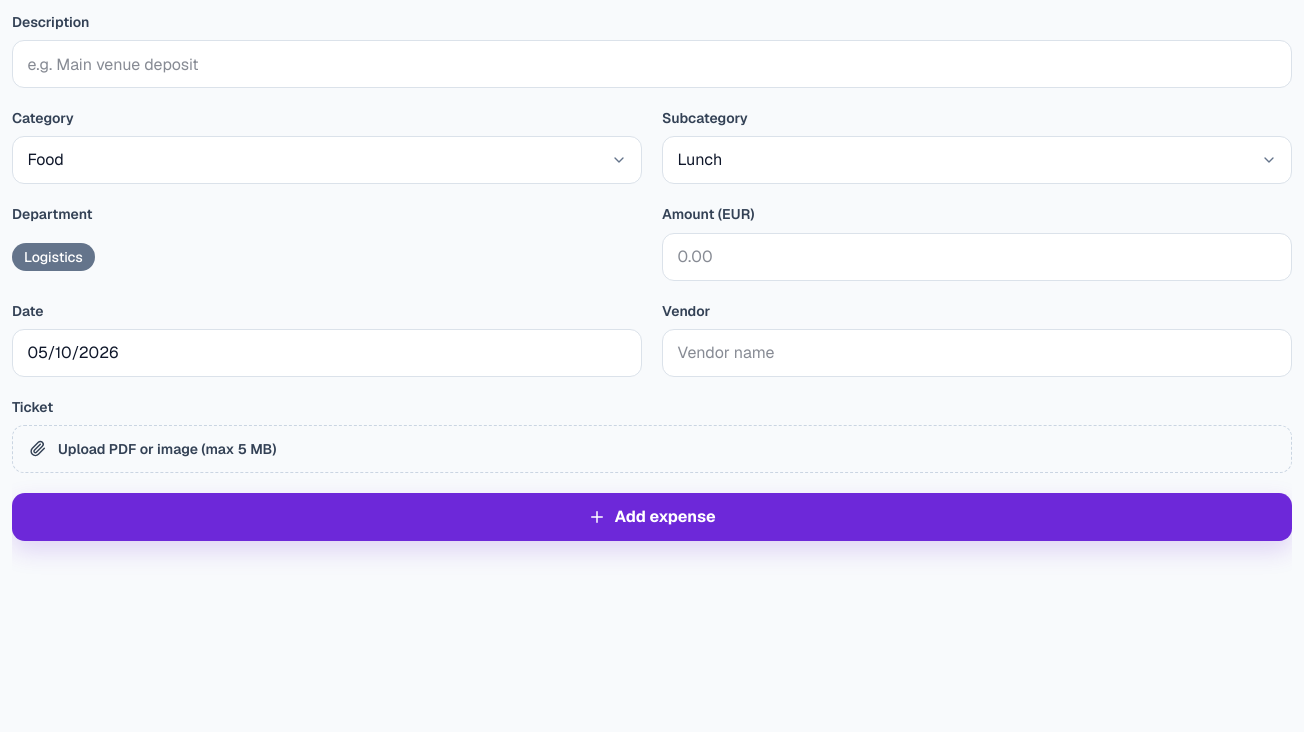
ExpenseForm › shows an error message returned from the action
Type "Venue deposit" into the field labelled "Description".
click(652, 64); type("Venue deposit")  # box x1=12 y1=40 x2=1292 y2=88
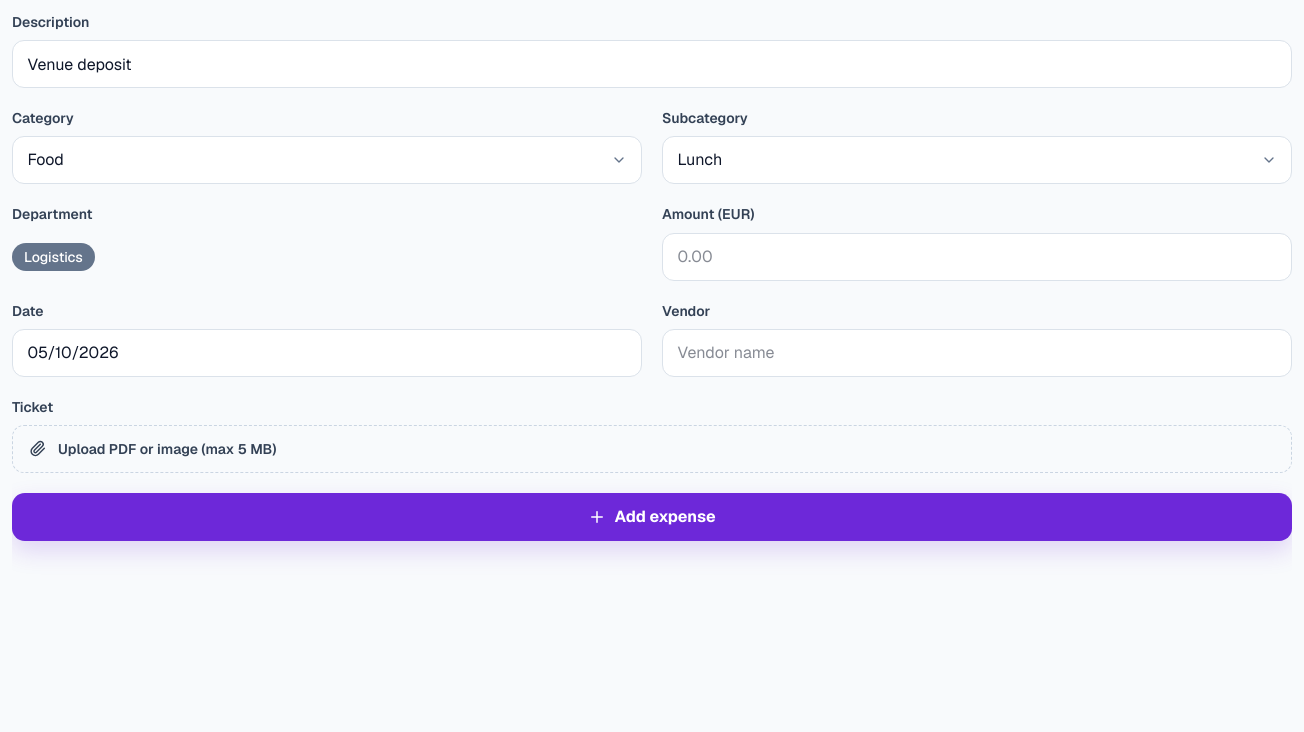
Type "500" into the number field labelled "Amount (EUR)".
click(977, 257); type("500")  # box x1=662 y1=233 x2=1292 y2=281
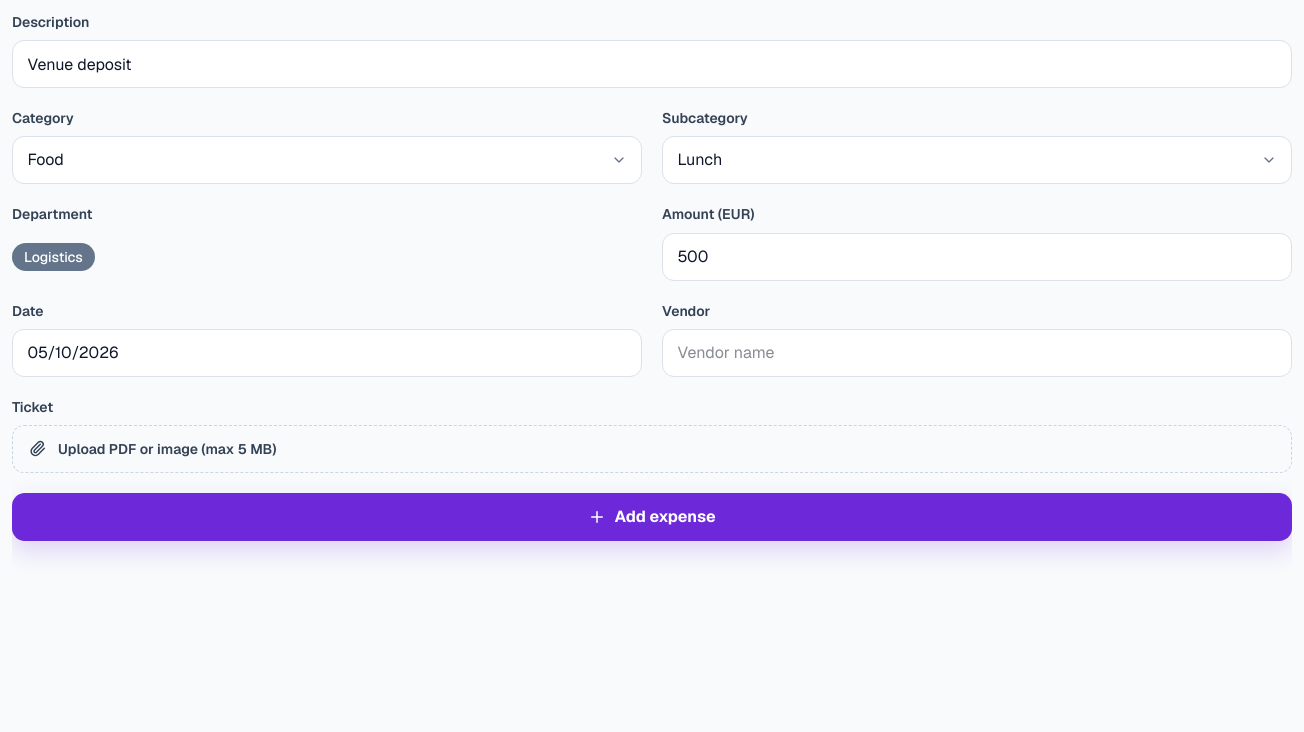
Type "Acme Venues" into the field labelled "Vendor".
click(977, 353); type("Acme Venues")  # box x1=662 y1=329 x2=1292 y2=377
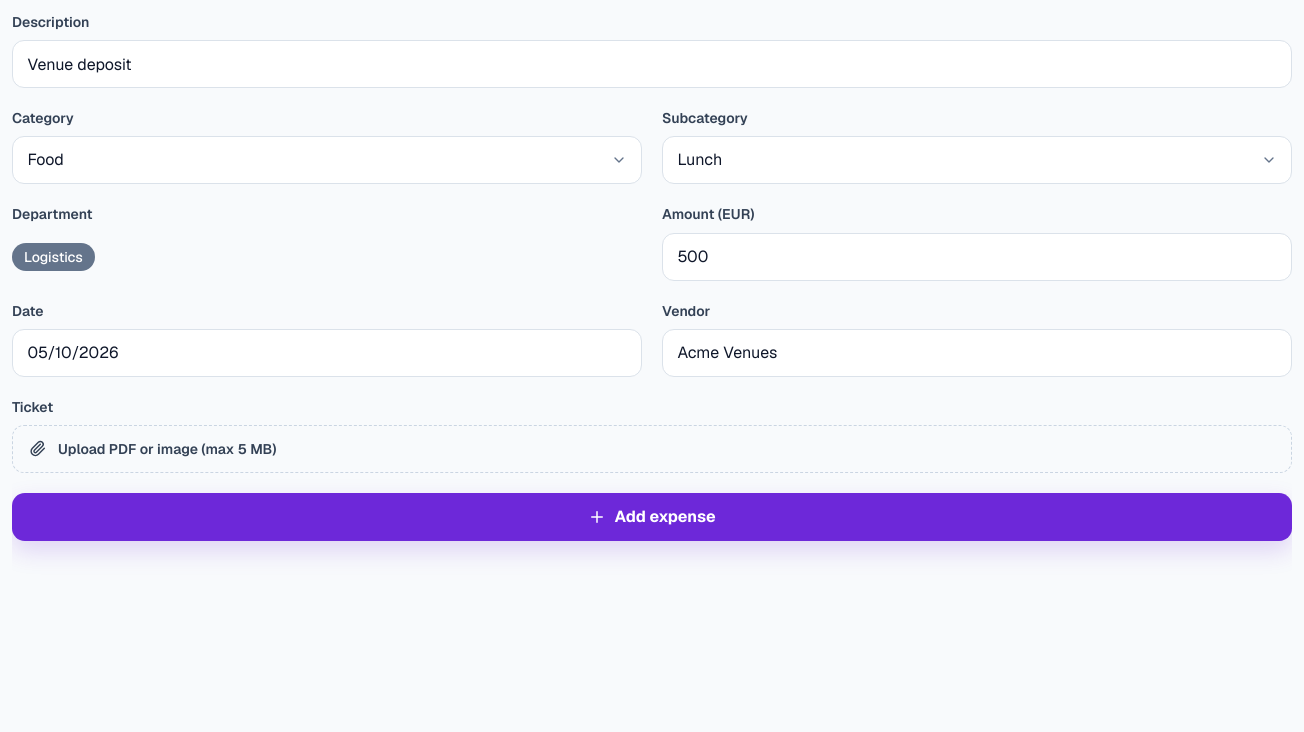
Click the button "Add expense".
click(652, 517)  # box x1=12 y1=493 x2=1292 y2=541
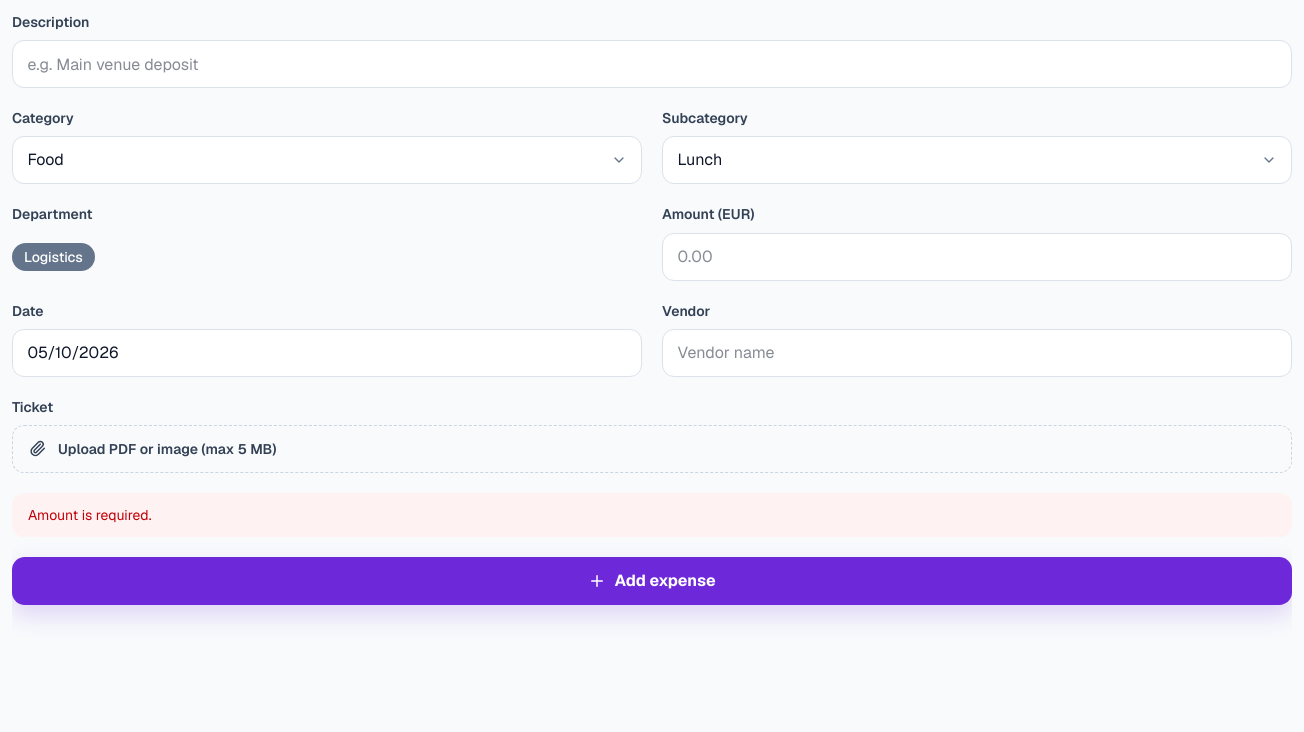
Expected: the message reads "Amount is required.", x1=28 y1=506 x2=152 y2=524
